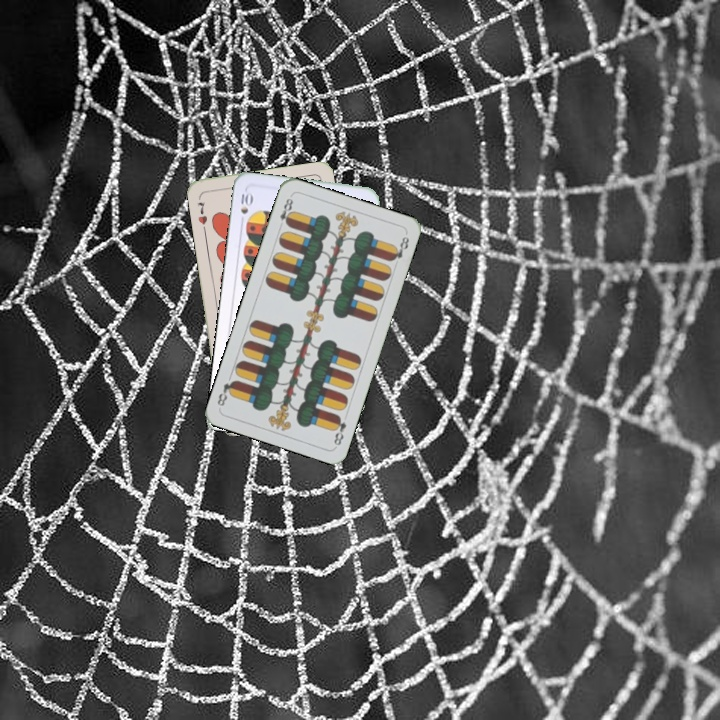E8: (275, 194, 296, 231), (329, 411, 349, 448)
H7: (193, 197, 210, 227)
S10: (236, 187, 255, 227)
